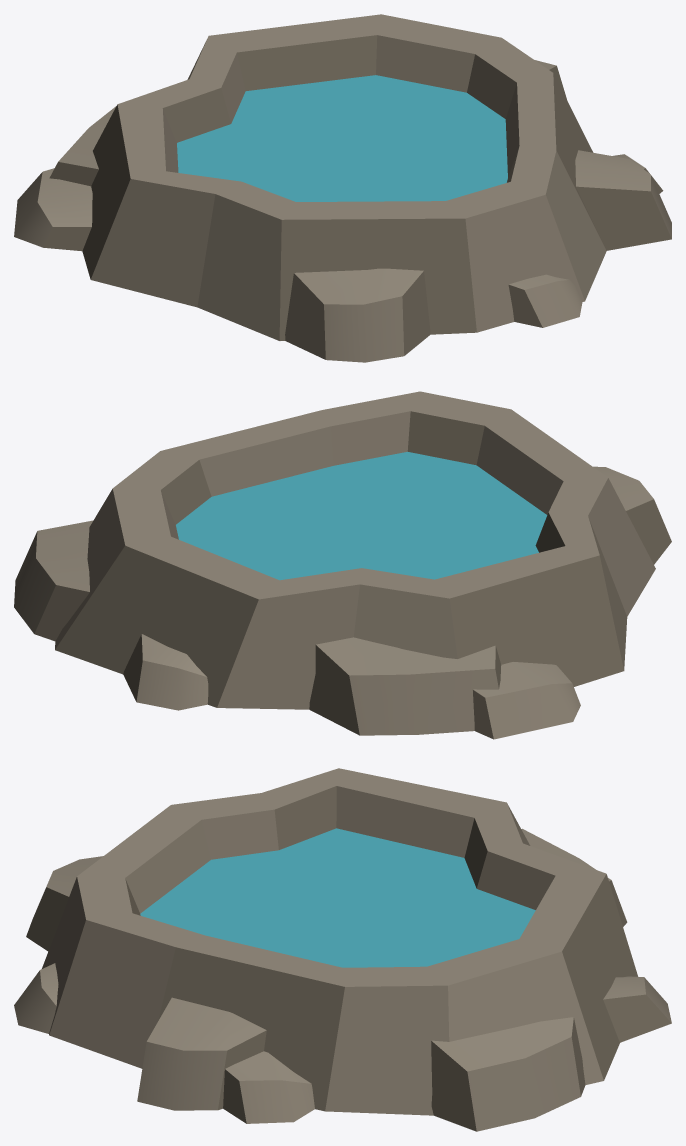
Rendered from LargeLess_SF_Env_Waterpool_03.fbx.
The picture shows the model from 3 angles, top to bottom: view 1: azimuth 30°, elevation 25°; view 2: azimuth 150°, elevation 25°; view 3: azimuth 270°, elevation 25°; orthographic projection. The views are drawn at different scales.
Parts seen in each view (by area): view 1: SF_Env_Waterpool_03; view 2: SF_Env_Waterpool_03; view 3: SF_Env_Waterpool_03.
Part boxes in pixels (x1,y1,x2,y2): SF_Env_Waterpool_03: [14, 14, 671, 362]; SF_Env_Waterpool_03: [14, 391, 671, 739]; SF_Env_Waterpool_03: [14, 768, 671, 1131].
Size of the model in its own units: 851 by 147 by 838.
